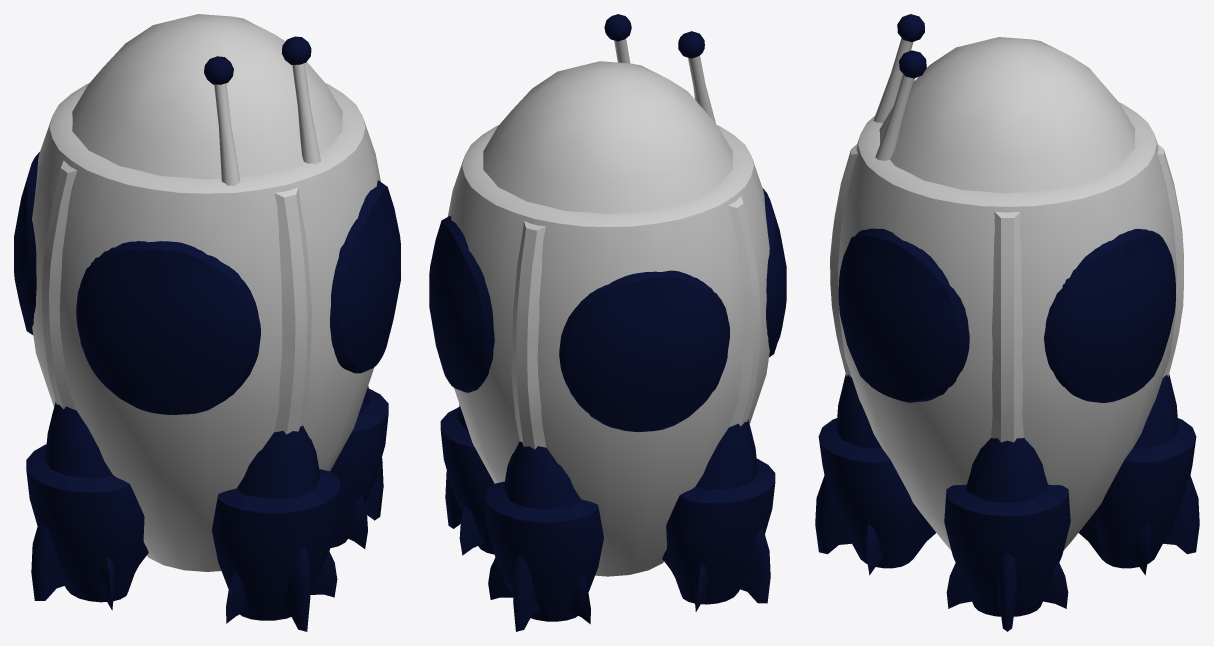
File: KapsulRion.fbx
The picture shows the model from 3 angles, left to right: view 1: azimuth 30°, elevation 25°; view 2: azimuth 150°, elevation 25°; view 3: azimuth 270°, elevation 25°; orthographic projection. The views are drawn at different scales.
Parts seen in each view (by area): view 1: body; view 2: body; view 3: body.
Boxes of the visible parts, x1=… form: body: x1=14, y1=14, x2=400, y2=631; body: x1=429, y1=14, x2=786, y2=631; body: x1=815, y1=14, x2=1199, y2=631.
Bounding box in the file's own units: 80.44 × 120 × 80.44.
